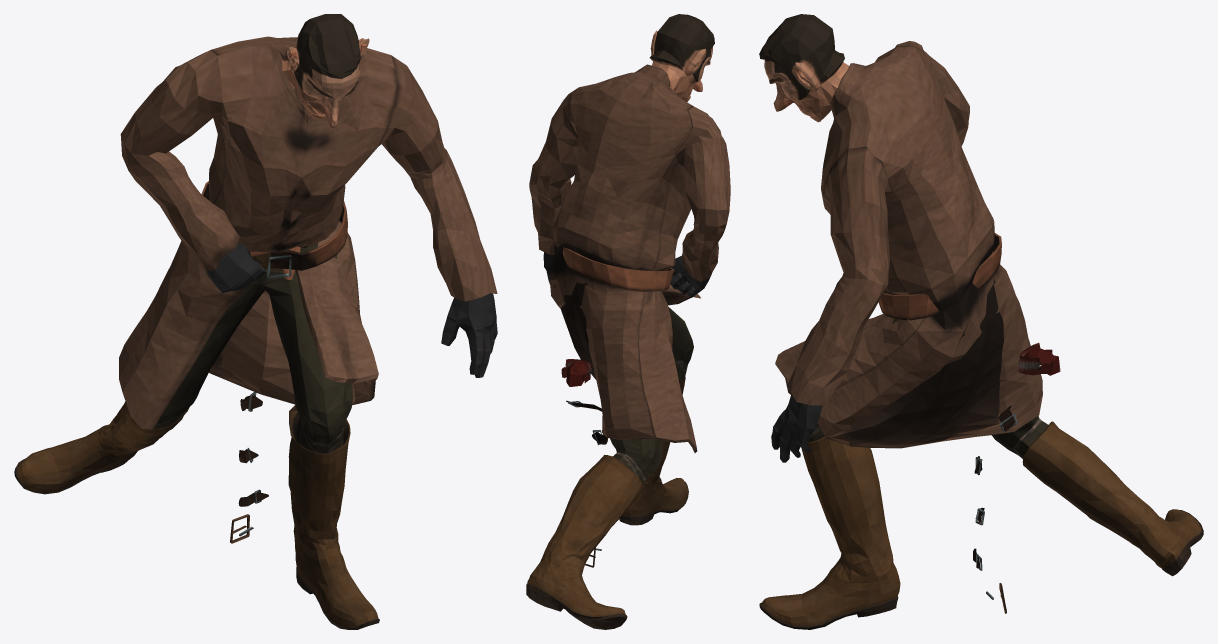
File: sniper01_000011.obj
The picture shows the model from 3 angles, left to right: view 1: azimuth 30°, elevation 25°; view 2: azimuth 150°, elevation 25°; view 3: azimuth 270°, elevation 25°; orthographic projection. The views are drawn at different scales.
Visible parts, largest first — view 1: Tops, Shoes, Bottoms, BodyParts; view 2: Tops, Shoes, BodyParts, Bottoms; view 3: Tops, Shoes, BodyParts, Bottoms.
Part boxes in pixels (x1,y1,x2,y2): Tops: (119, 36, 497, 536); Shoes: (14, 401, 379, 629); Bottoms: (154, 242, 352, 543); BodyParts: (204, 14, 497, 377); Tops: (529, 64, 730, 550); Shoes: (526, 377, 688, 629); BodyParts: (543, 14, 714, 386); Bottoms: (554, 285, 693, 567); Tops: (775, 41, 1042, 599); Shoes: (759, 421, 1203, 629); BodyParts: (759, 14, 1060, 462); Bottoms: (807, 252, 1048, 613).
Size of the model in its own units: 1.14 by 2.22 by 1.51.
